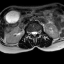CCS_normal: (33, 28, 35, 38)
LFS_normal: (37, 28, 39, 35)
LLS_normal: (35, 28, 37, 36)
RFS_normal: (28, 29, 31, 36)
RLS_normal: (31, 29, 33, 36)
